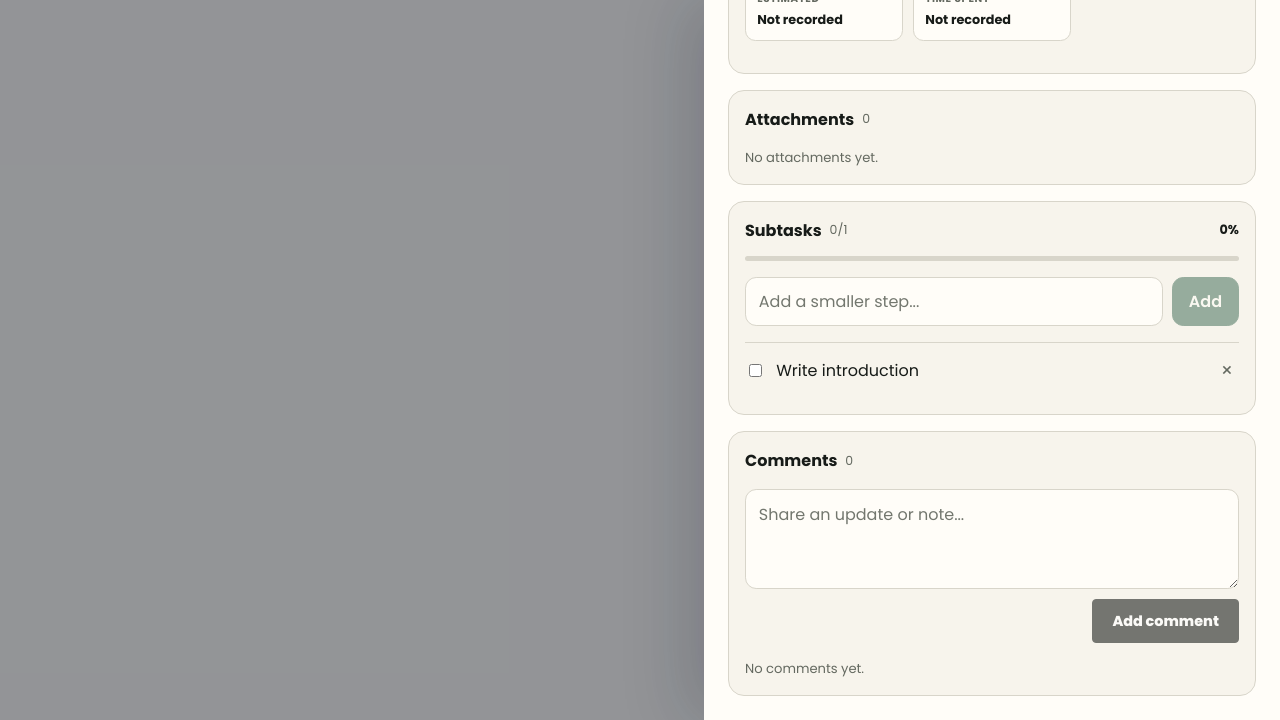
Test case: Task details panel › adds a comment
The image size is (1280, 720).
(page scrolled)
Expected: the text "No comments yet." is shown, [745, 659, 864, 678]
Type "Ready for review" into the text box named "New comment" at {"x": 992, "y": 539}, box [745, 490, 1239, 589]
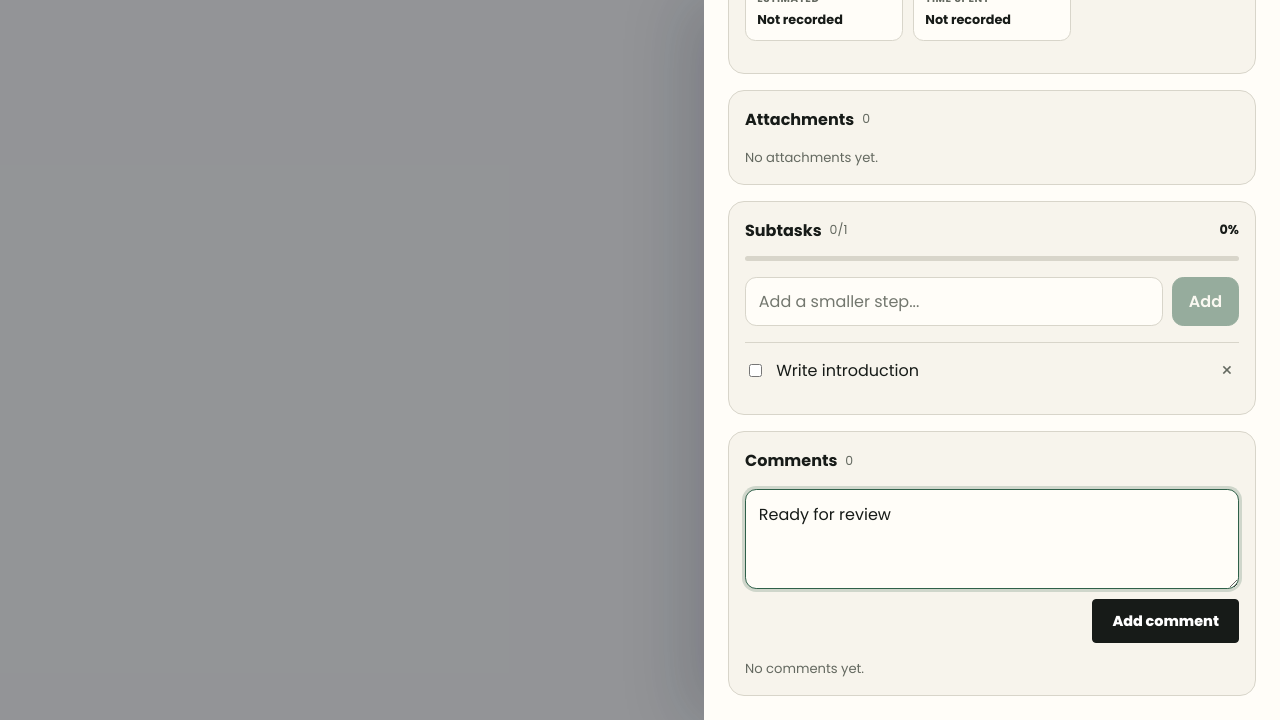
Click the button "Add comment" at {"x": 1166, "y": 621}, box [1092, 599, 1239, 643]
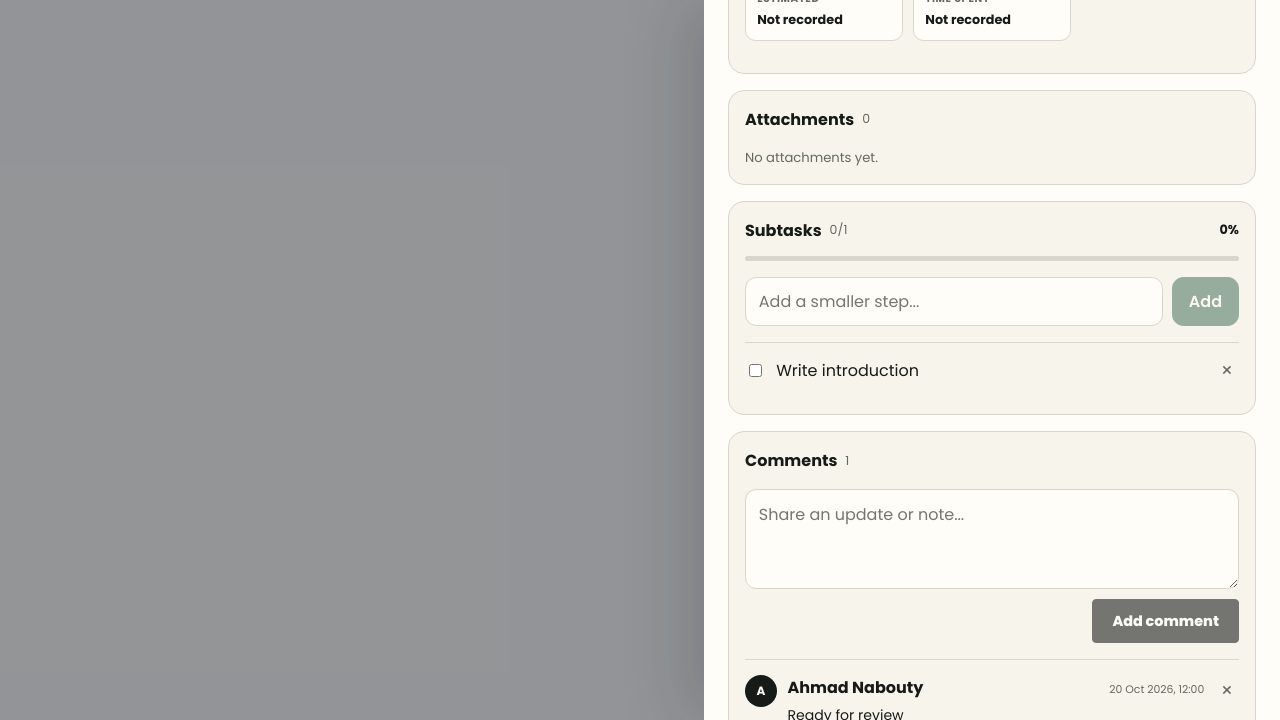
Now the text "Ready for review" is shown, box [787, 705, 904, 719]
Now the text "Ahmad Nabouty" is shown, box [787, 675, 923, 700]
